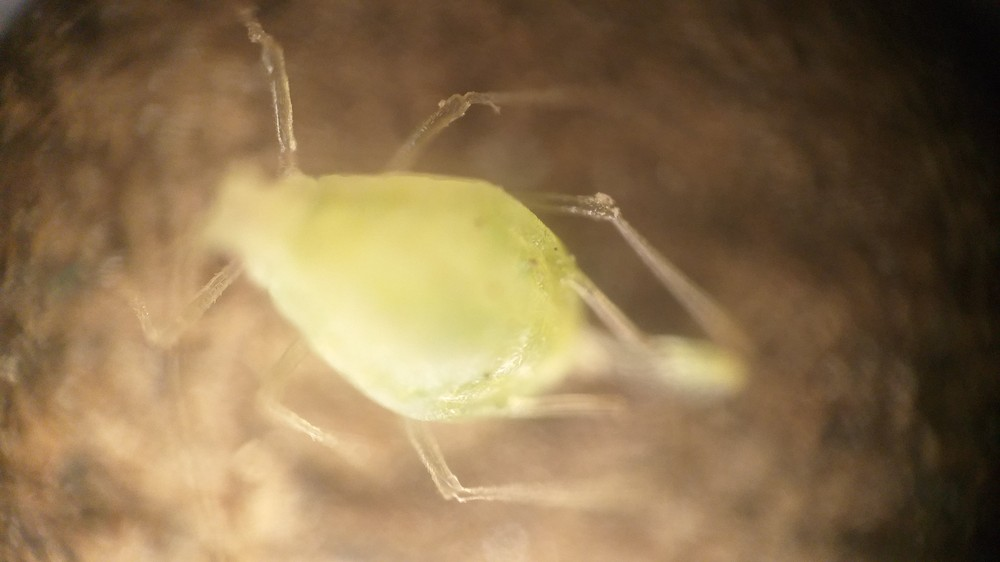Pulgon: (128, 27, 798, 521)
